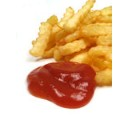frenchfries: (33, 1, 114, 86)
